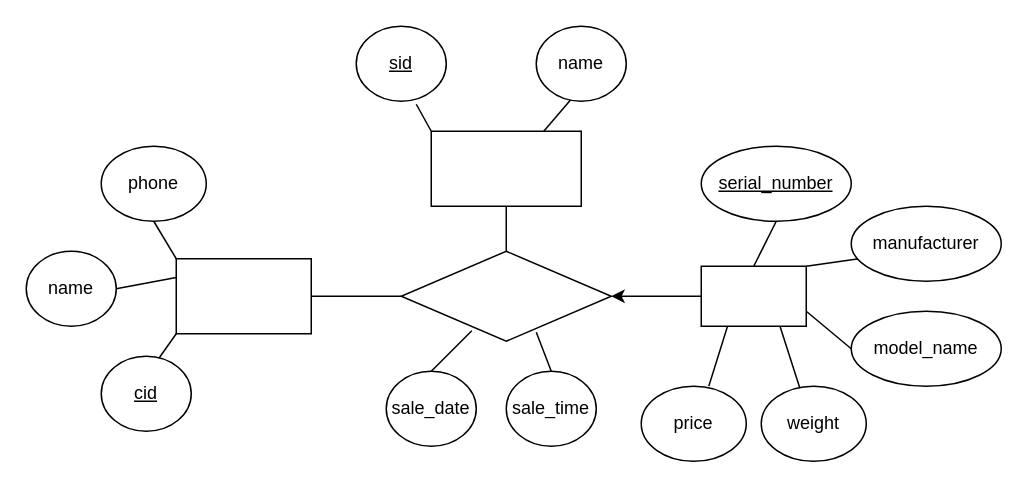
Image size: 1028x488. Some labels were removed from this diagram. The shapes that lost their labels are listed below. From the top down, each one's centre as x and y in pixels, then its label:
At (505,168): "Salespersons".
At (243,295): "Customers".
At (505,295): "Transactions".
At (753,295): "Cars".
